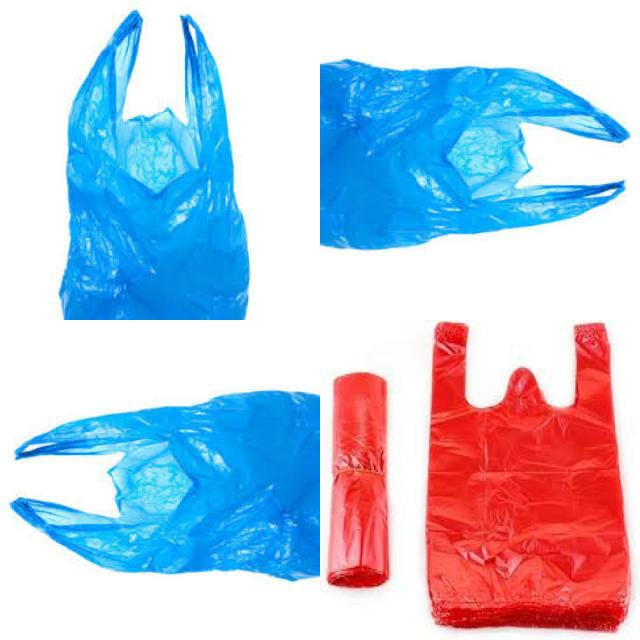Single-layer Plastic: (426, 322, 629, 630), (320, 60, 629, 249), (11, 391, 320, 580), (60, 11, 249, 319)
